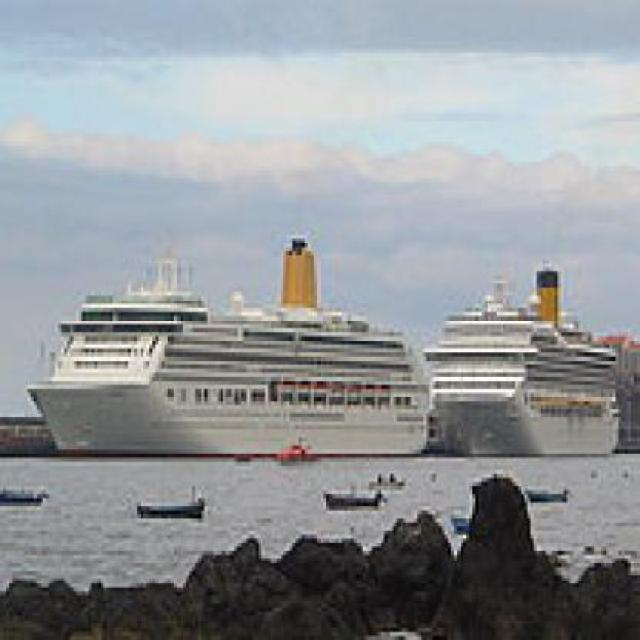cruise: (25, 227, 443, 475), (433, 256, 635, 475)
